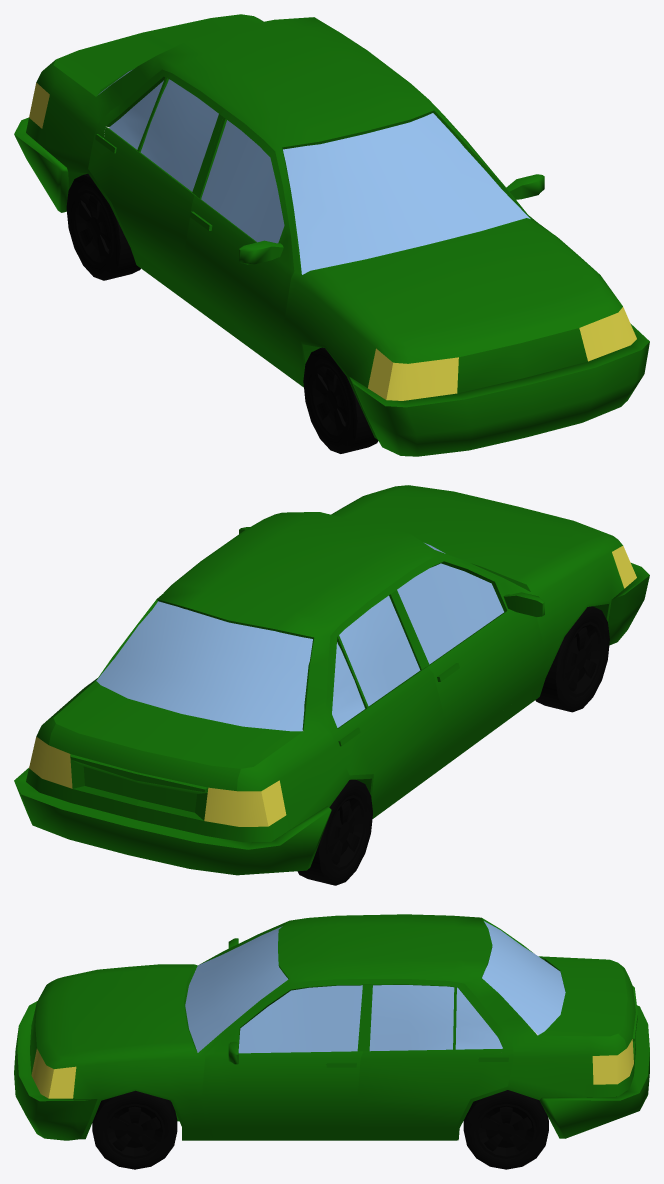
Rendered from car2.glb.
The picture shows the model from 3 angles, top to bottom: view 1: azimuth 30°, elevation 25°; view 2: azimuth 150°, elevation 25°; view 3: azimuth 270°, elevation 25°; orthographic projection. The views are drawn at different scales.
Visible parts, largest first — view 1: Cube.022, window, window.002, window.001, wheel.003, wheel.002; view 2: Cube.022, window, window.002, window.001, wheel.003, wheel.002; view 3: Cube.022, window, window.002, window.001, wheel.001, wheel.
Boxes of the visible parts, box(x1,y1,x2,y2) form: Cube.022: box(14, 14, 649, 456); window: box(98, 70, 530, 274); window.002: box(109, 79, 218, 191); window.001: box(201, 120, 284, 243); wheel.003: box(303, 347, 378, 453); wheel.002: box(66, 173, 140, 280); Cube.022: box(14, 485, 649, 875); window: box(96, 543, 445, 731); window.002: box(332, 595, 420, 727); window.001: box(397, 563, 503, 664); wheel.003: box(535, 606, 609, 712); wheel.002: box(297, 779, 372, 885); Cube.022: box(14, 914, 649, 1140); window: box(185, 921, 565, 1052); window.002: box(369, 985, 502, 1051); window.001: box(238, 985, 362, 1053); wheel.001: box(92, 1090, 177, 1169); wheel: box(463, 1090, 548, 1169).
Bounding box in the file's own units: 1.92 × 1.38 × 4.43.
